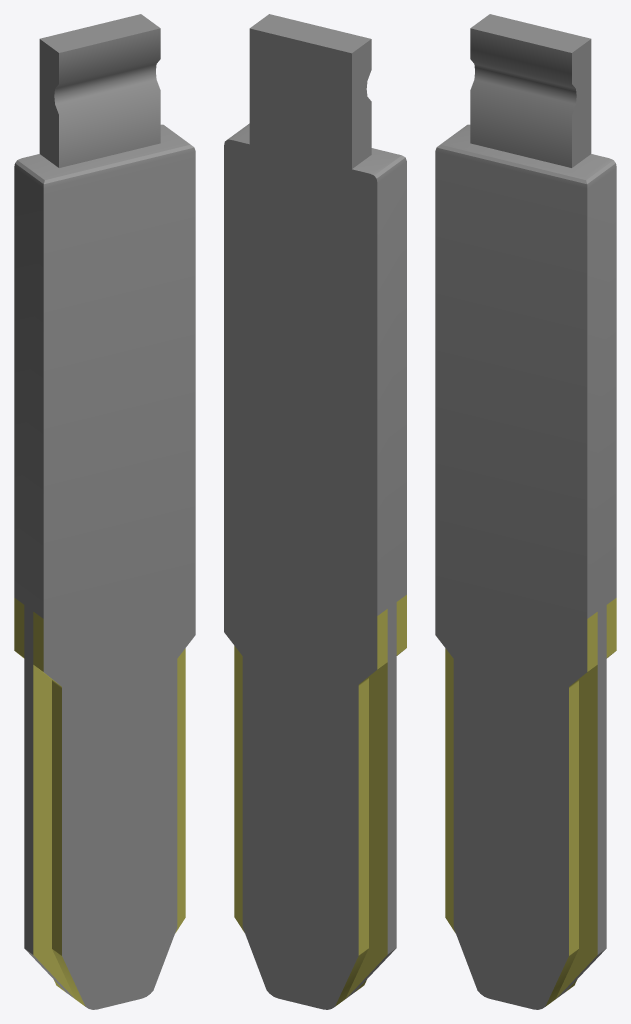
3 renders of one model, left to right at view 1: azimuth 30°, elevation 25°; view 2: azimuth 150°, elevation 25°; view 3: azimuth 330°, elevation 25°, orthographic.
Bounding box in the file's own units: 9 × 54 × 3.
